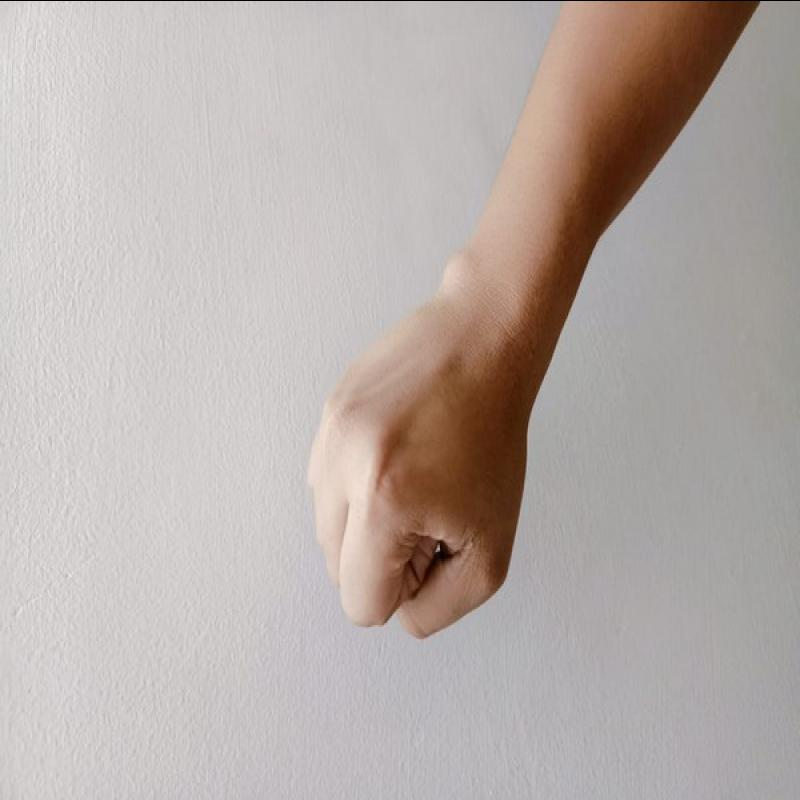Mushti: (282, 310, 538, 656)
